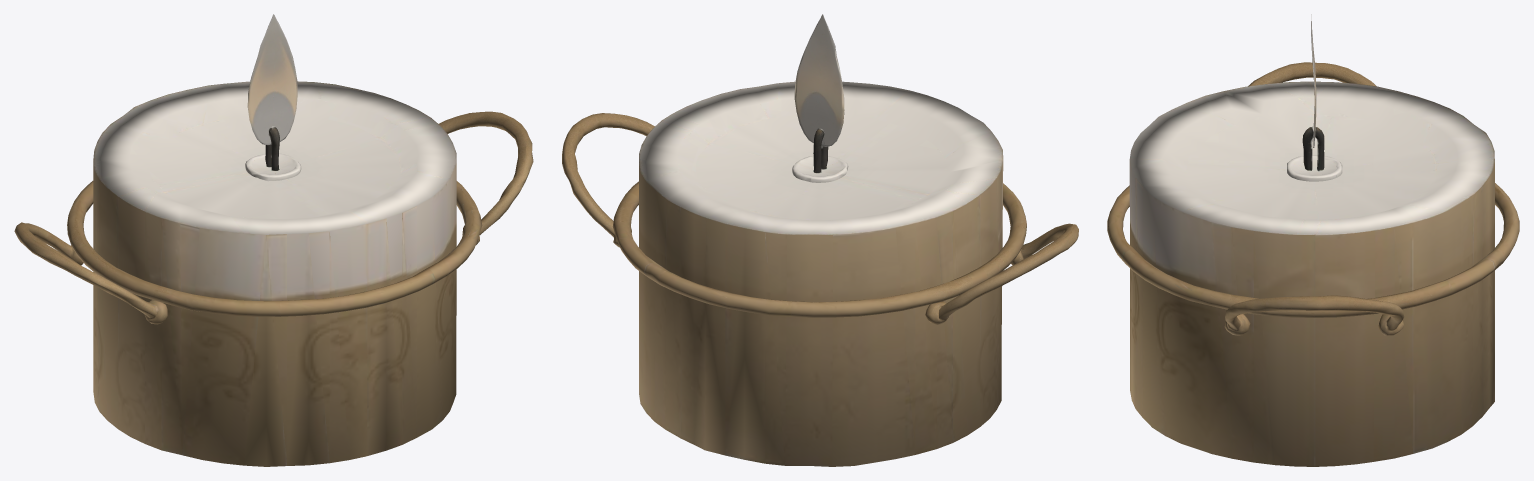
File: candle.glb
The picture shows the model from 3 angles, left to right: view 1: azimuth 30°, elevation 25°; view 2: azimuth 150°, elevation 25°; view 3: azimuth 270°, elevation 25°; orthographic projection.
Size of the model in its own units: 0.9507 by 0.6949 by 0.6909.
1 material, 1 textured.
